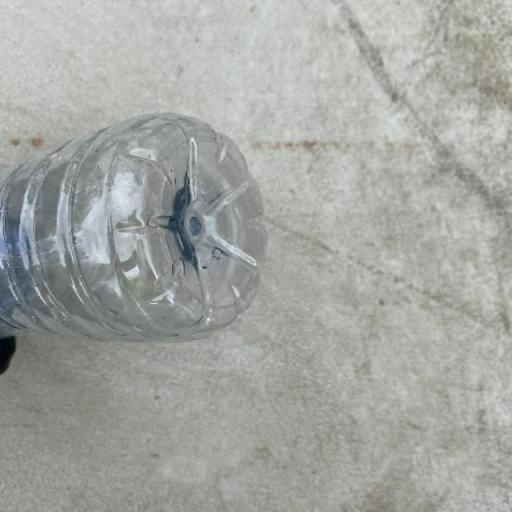plastic: (0, 110, 268, 344)
